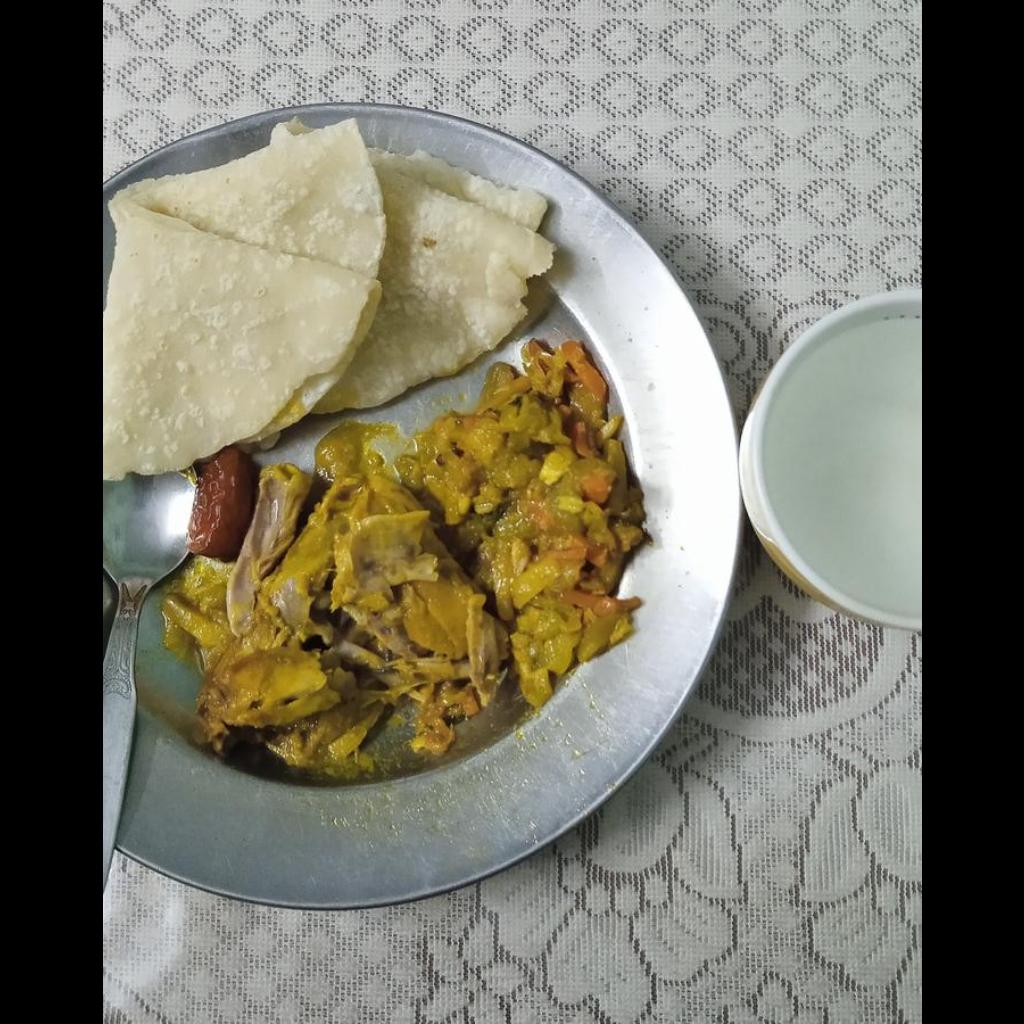chicken: (163, 465, 509, 762)
dates: (187, 446, 256, 560)
ruti: (103, 117, 557, 483)
vaji: (394, 349, 645, 713)
